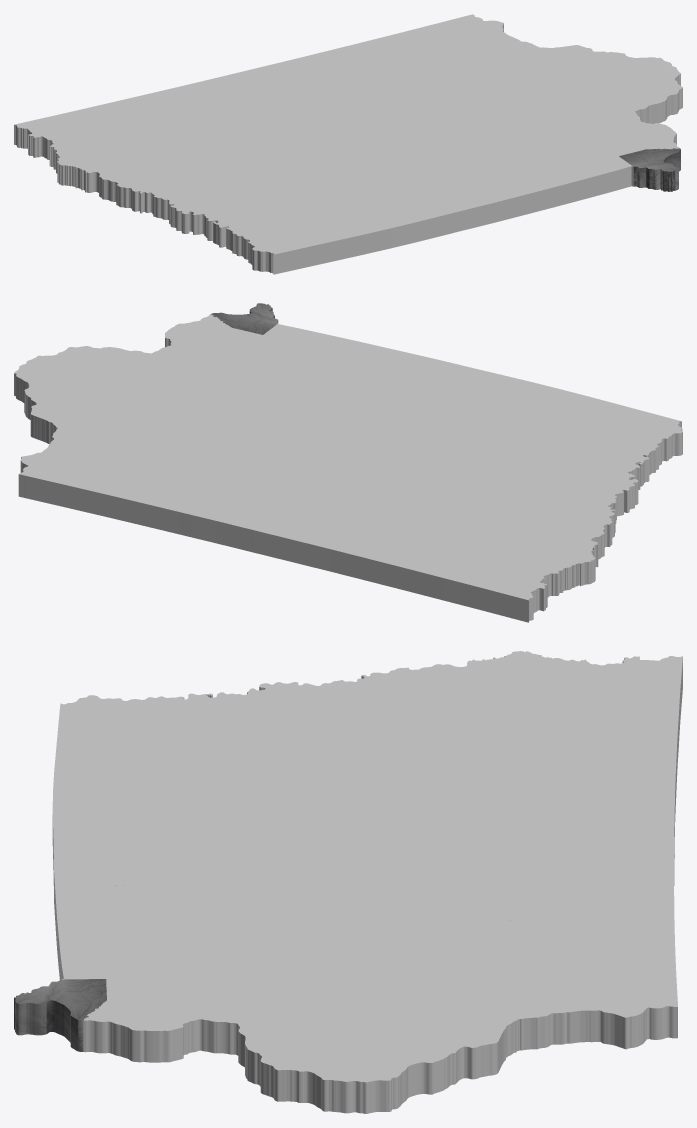
The model's file is map.obj.
3 views of the same model, one above another, from view 1: azimuth 30°, elevation 25°; view 2: azimuth 150°, elevation 25°; view 3: azimuth 270°, elevation 25° (orthographic). The views are drawn at different scales.
Visible parts, largest first — view 1: pottawattamie_pottawattamie.mesh, woodbury_woodbury.mesh, fremont_fremont.mesh, monona_monona.mesh, lee_lee.mesh, plymouth_plymouth.mesh, harrison_harrison.mesh, sioux_sioux.mesh, decatur_decatur.mesh, page_page.mesh, ringgold_ringgold.mesh, taylor_taylor.mesh (+87 smaller); view 2: lyon_lyon.mesh, kossuth_kossuth.mesh, winneshiek_winneshiek.mesh, plymouth_plymouth.mesh, pottawattamie_pottawattamie.mesh, allamakee_allamakee.mesh, sioux_sioux.mesh, woodbury_woodbury.mesh, howard_howard.mesh, mitchell_mitchell.mesh, harrison_harrison.mesh, dickinson_dickinson.mesh (+87 smaller); view 3: clayton_clayton.mesh, allamakee_allamakee.mesh, clinton_clinton.mesh, jackson_jackson.mesh, dubuque_dubuque.mesh, lee_lee.mesh, des_moines_des_moines.mesh, kossuth_kossuth.mesh, scott_scott.mesh, pottawattamie_pottawattamie.mesh, woodbury_woodbury.mesh, plymouth_plymouth.mesh (+87 smaller).
Boxes of the visible parts, x1,y1,x2,y2 form: pottawattamie_pottawattamie.mesh: [193, 196, 290, 247]; woodbury_woodbury.mesh: [82, 155, 176, 201]; fremont_fremont.mesh: [248, 231, 308, 274]; monona_monona.mesh: [116, 171, 199, 217]; lee_lee.mesh: [619, 148, 680, 191]; plymouth_plymouth.mesh: [56, 140, 137, 189]; harrison_harrison.mesh: [158, 186, 237, 233]; sioux_sioux.mesh: [32, 122, 115, 172]; decatur_decatur.mesh: [410, 192, 472, 238]; page_page.mesh: [288, 221, 350, 266]; ringgold_ringgold.mesh: [369, 202, 431, 248]; taylor_taylor.mesh: [328, 212, 390, 257]; lyon_lyon.mesh: [460, 569, 545, 622]; kossuth_kossuth.mesh: [281, 504, 372, 570]; winneshiek_winneshiek.mesh: [56, 459, 131, 515]; plymouth_plymouth.mesh: [507, 531, 595, 588]; pottawattamie_pottawattamie.mesh: [551, 437, 649, 489]; allamakee_allamakee.mesh: [18, 449, 85, 504]; sioux_sioux.mesh: [480, 550, 570, 607]; woodbury_woodbury.mesh: [523, 507, 609, 567]; howard_howard.mesh: [101, 477, 168, 526]; mitchell_mitchell.mesh: [147, 488, 213, 537]; harrison_harrison.mesh: [561, 464, 638, 519]; dickinson_dickinson.mesh: [371, 546, 434, 593]; clayton_clayton.mesh: [494, 982, 588, 1061]; allamakee_allamakee.mesh: [587, 981, 677, 1049]; clinton_clinton.mesh: [305, 1031, 371, 1113]; jackson_jackson.mesh: [368, 1031, 443, 1112]; dubuque_dubuque.mesh: [422, 1014, 503, 1089]; lee_lee.mesh: [14, 979, 106, 1051]; des_moines_des_moines.mesh: [83, 1000, 163, 1062]; kossuth_kossuth.mesh: [547, 795, 674, 857]; scott_scott.mesh: [245, 1032, 314, 1102]; pottawattamie_pottawattamie.mesh: [179, 688, 256, 746]; woodbury_woodbury.mesh: [404, 659, 482, 713]; plymouth_plymouth.mesh: [479, 651, 557, 702].
Bounding box in the file's own units: 2 × 0.0681 × 1.31.
